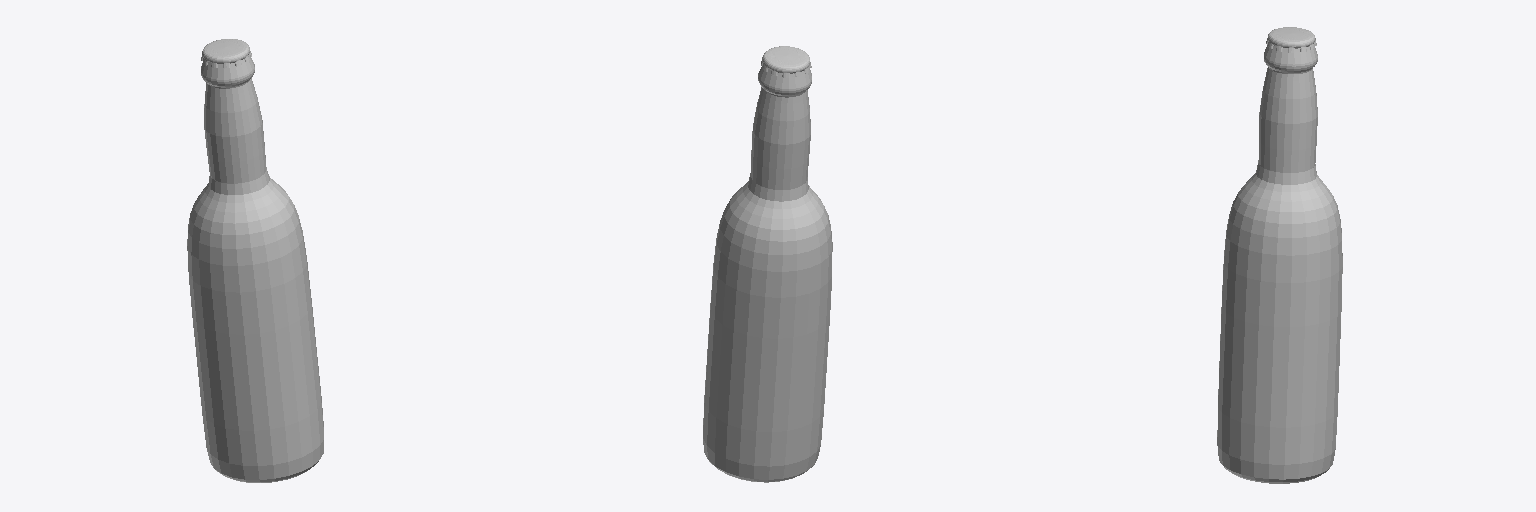
Rendered from glass2.obj.
3 views of the same model, side by side, from view 1: azimuth 30°, elevation 25°; view 2: azimuth 150°, elevation 25°; view 3: azimuth 270°, elevation 25° (orthographic).
Parts seen in each view (by area): view 1: Botella.001; view 2: Botella.001; view 3: Botella.001.
Part boxes in pixels (x1,y1,x2,y2): Botella.001: (187,39,323,482); Botella.001: (703,46,832,482); Botella.001: (1217,27,1342,483).
Size of the model in its own units: 11.86 by 40.76 by 10.95.